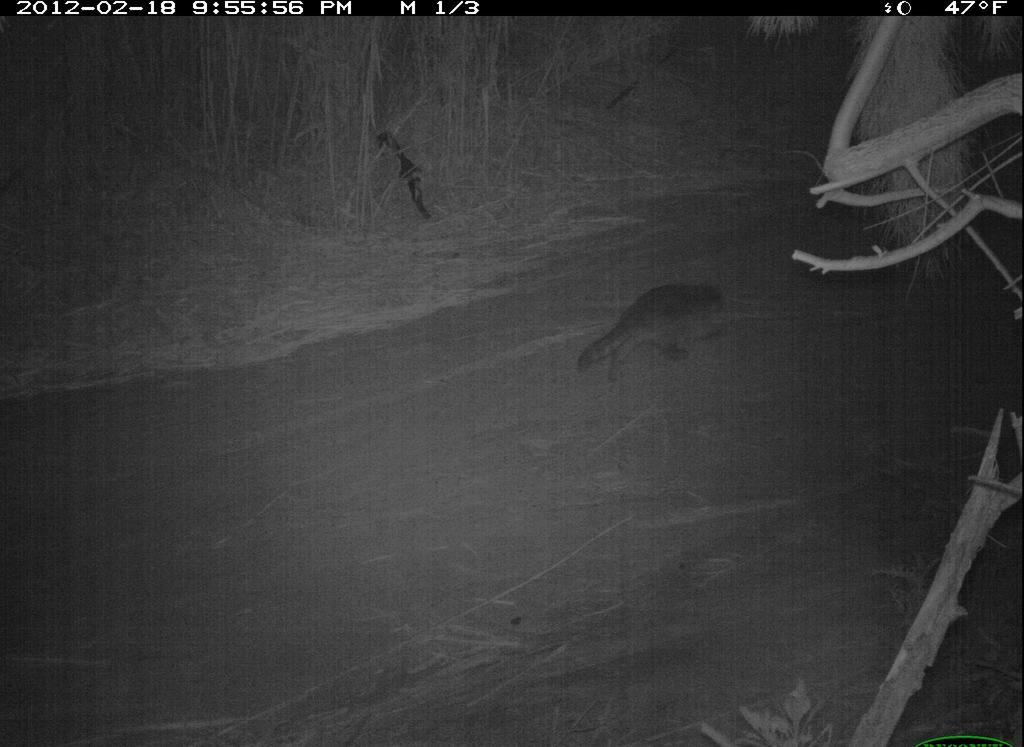raccoon: (568, 272, 739, 393)
